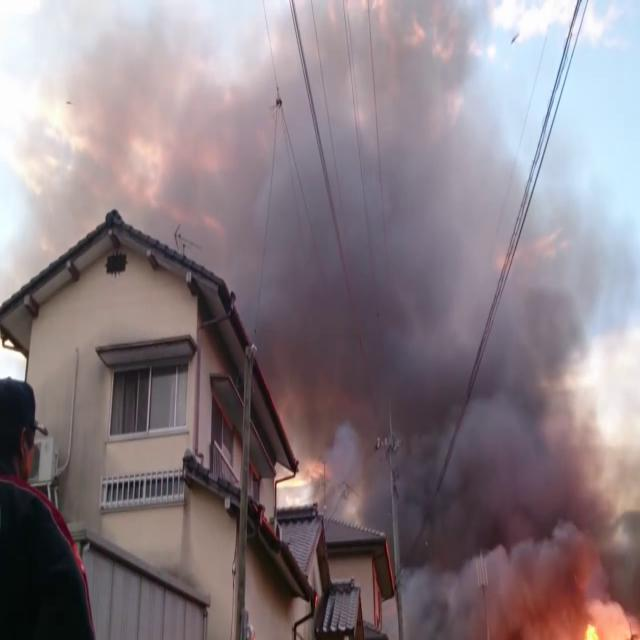Fire: (584, 622, 596, 640)
Smoke: (404, 0, 584, 640), (588, 412, 638, 618)
